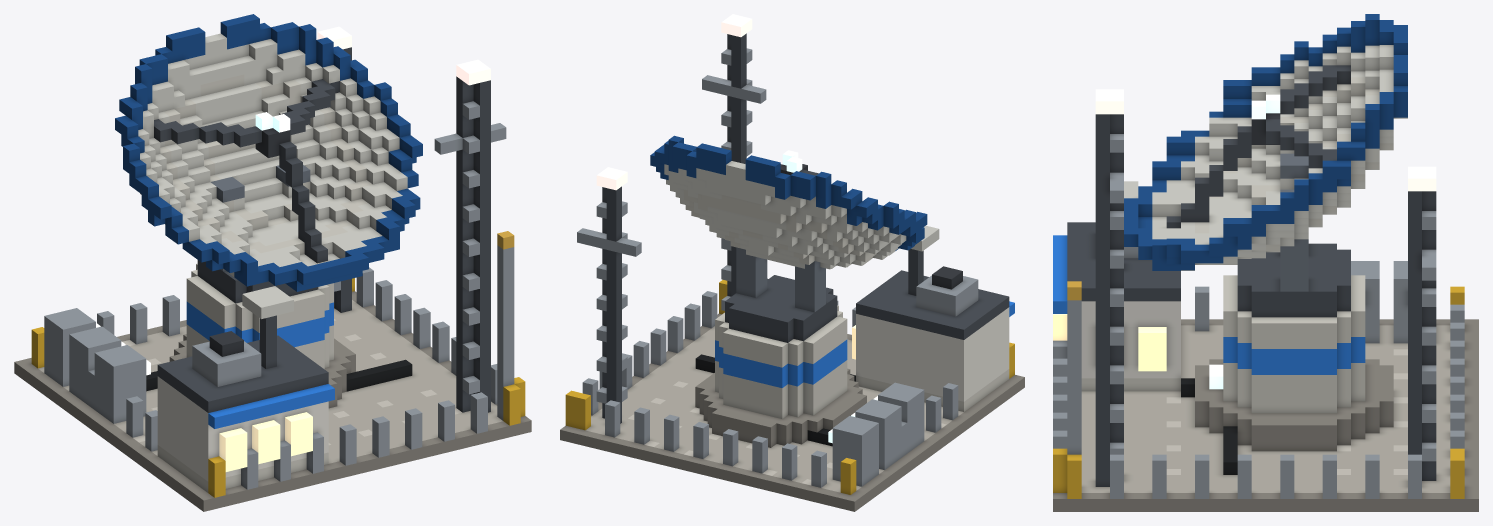
Rendered from cm_uplink_1.glb.
3 renders of one model, left to right at view 1: azimuth 30°, elevation 25°; view 2: azimuth 150°, elevation 25°; view 3: azimuth 270°, elevation 25°, orthographic. The views are drawn at different scales.
Visible parts, largest first — view 1: cm_uplink_1_body; view 2: cm_uplink_1_body; view 3: cm_uplink_1_body.
Part boxes in pixels (<box>): cm_uplink_1_body: <box>14,14,531,511</box>; cm_uplink_1_body: <box>560,14,1024,511</box>; cm_uplink_1_body: <box>1053,14,1478,511</box>.
Bounding box in the file's own units: 1.88 × 1.94 × 1.88.
Materials: 1 (1 with a texture image).
